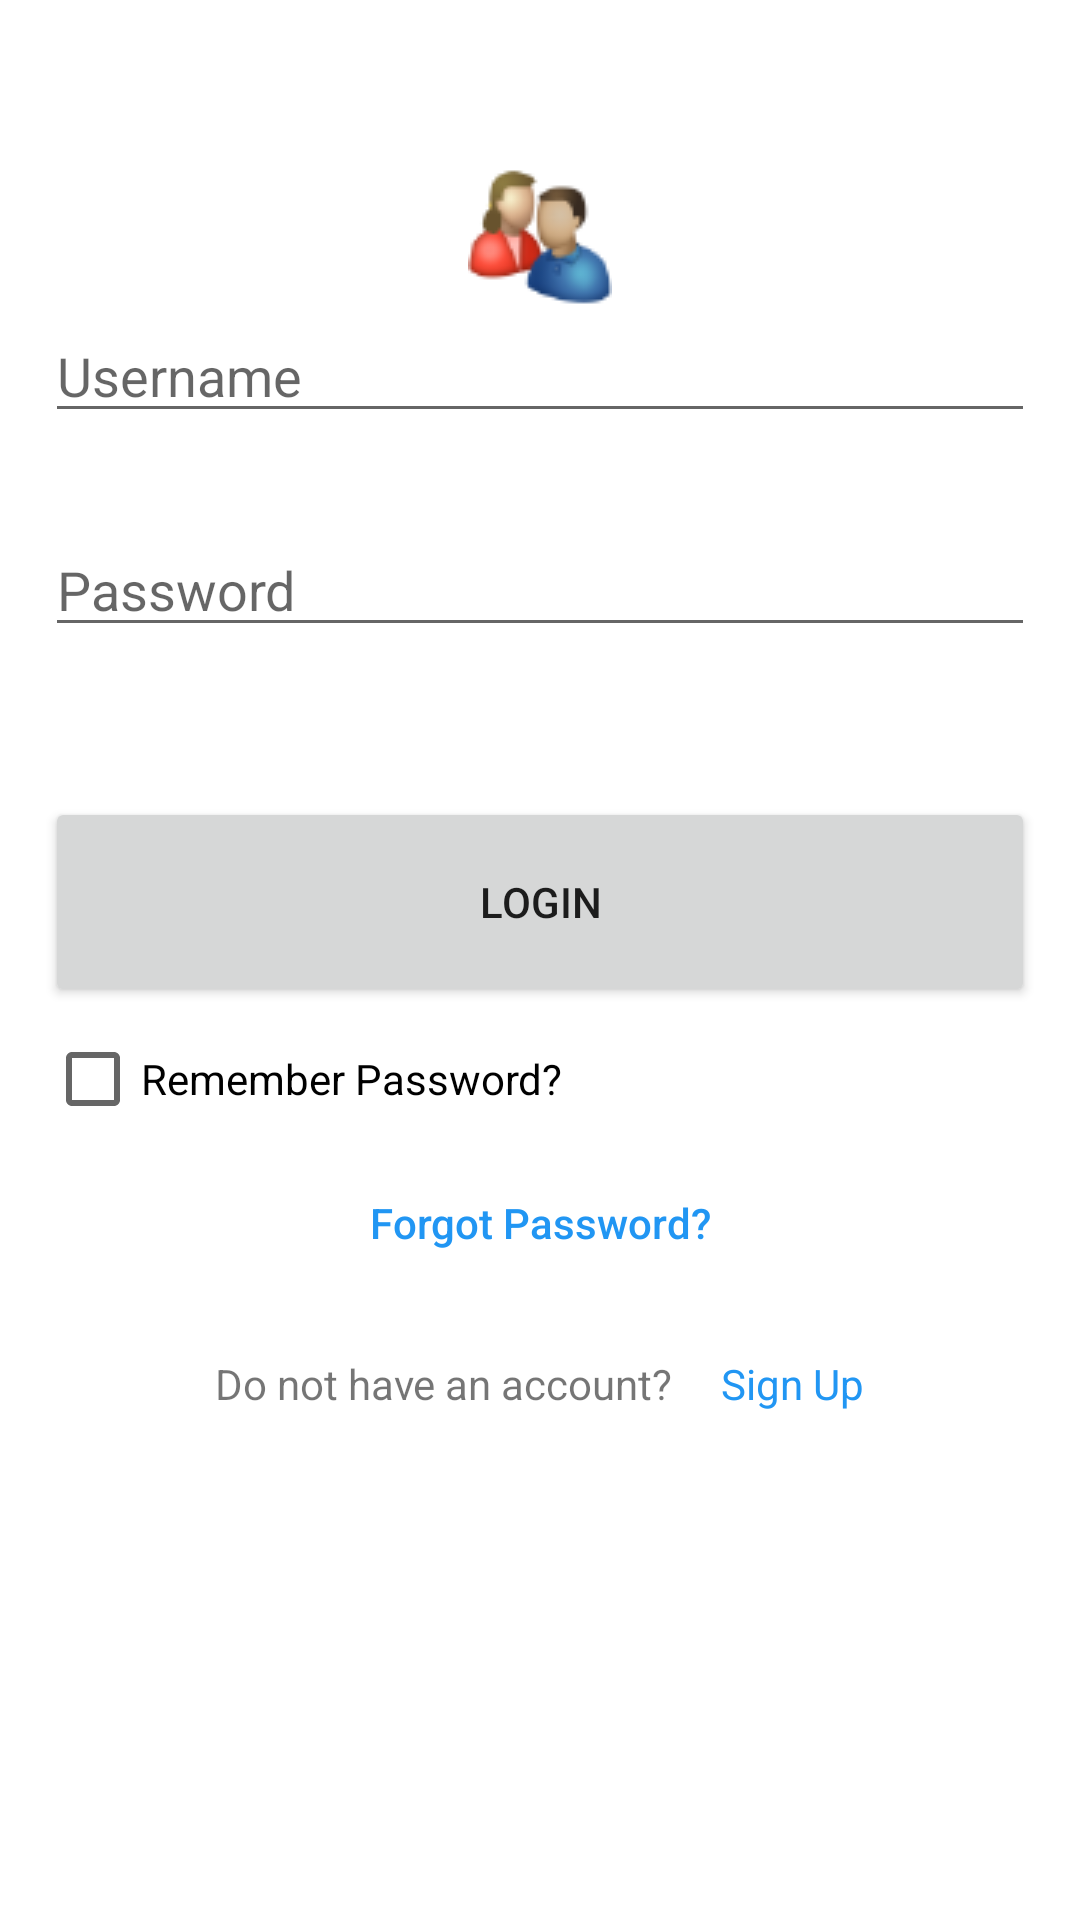

Icons on this 1080px×1920px Android screen, each with the point to tap as (x=x, y=y):
user login: (x=540, y=237)
